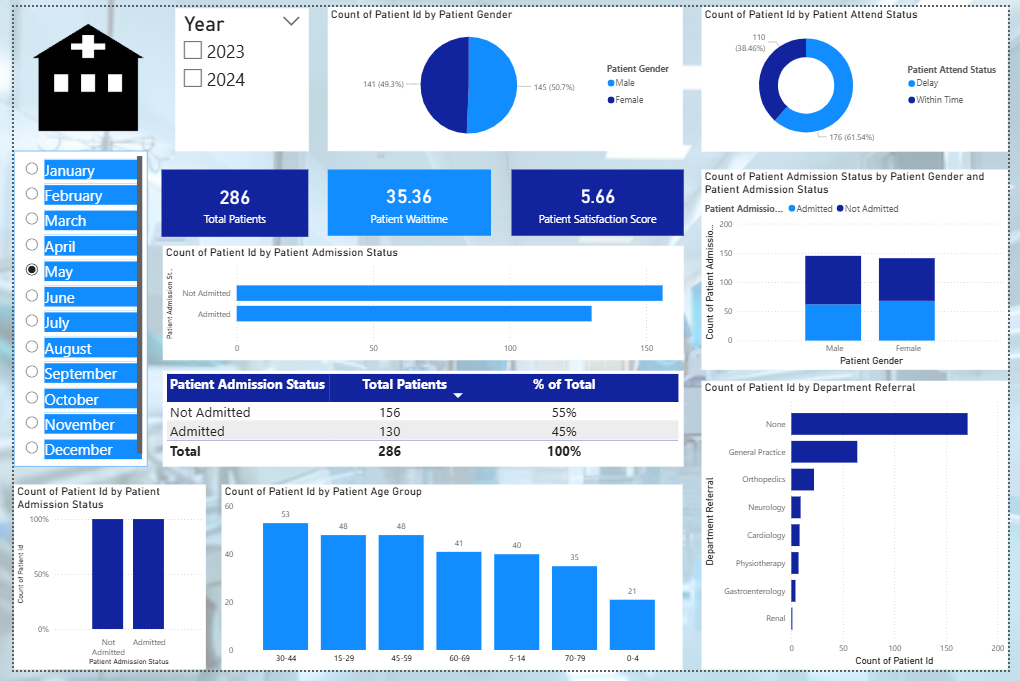

The dashboard page shown, as its layout file describes it:
{"tool":"powerbi","page":{"name":"Dashboard ","canvas":[1500,1000],"ordinal":1},"visuals":[{"type":"card","fields":{"Values":["Count(Hospital_Cases_Analysis.Patient Id.1)"]},"box":[223.3,245,221.7,101.7],"z":0},{"type":"columnChart","fields":{"Y":["CountNonNull(Hospital_Cases_Analysis.Patient Id.1)"],"Category":["Hospital_Cases_Analysis.Patient Age Group"]},"box":[314,720,696,280],"z":1000},{"type":"card","fields":{"Values":["Avg(Hospital_Cases_Analysis.Patient Satisfaction Score)"]},"box":[750,245.7,260,100],"z":2000},{"type":"slicer","fields":{"Values":["Custome_Calender.Dates.Variation.Date Hierarchy.Month"]},"box":[0,216.7,201.7,476.7],"z":3000},{"type":"pieChart","fields":{"Category":["Hospital_Cases_Analysis.Patient Gender"],"Y":["CountNonNull(Hospital_Cases_Analysis.Patient Id)"]},"box":[474.1,0,536.2,217.2],"z":4000},{"type":"donutChart","fields":{"Category":["Hospital_Cases_Analysis.Patient Attend Status"],"Y":["CountNonNull(Hospital_Cases_Analysis.Patient Id)"]},"box":[1038,0,462,218],"z":5000},{"type":"barChart","fields":{"Y":["CountNonNull(Hospital_Cases_Analysis.Patient Id)"],"Category":["Hospital_Cases_Analysis.Department Referral"]},"box":[1038,564,462,436],"z":6000},{"type":"hundredPercentStackedColumnChart","fields":{"Category":["Hospital_Cases_Analysis.Patient Admission Status"],"Y":["CountNonNull(Hospital_Cases_Analysis.Patient Id)"]},"box":[0,720.9,289.6,279.1],"z":7000},{"type":"card","fields":{"Values":["Avg(Hospital_Cases_Analysis.Patient Waittime)"]},"box":[474,246,246,100],"z":8000},{"type":"tableEx","fields":{"Values":["Hospital_Cases_Analysis.Patient Admission Status","Hospital_Cases_Analysis.Total Patients","Hospital_Cases_Analysis.% of Total"]},"box":[224.1,548.3,786.2,144.8],"z":9000},{"type":"columnChart","fields":{"Category":["Hospital_Cases_Analysis.Patient Gender"],"Series":["Hospital_Cases_Analysis.Patient Admission Status"],"Y":["CountNonNull(Hospital_Cases_Analysis.Patient Admission Status)"]},"box":[1038,246,462,302],"z":10000},{"type":"barChart","fields":{"Category":["Hospital_Cases_Analysis.Patient Admission Status"],"Y":["CountNonNull(Hospital_Cases_Analysis.Patient Id)"]},"box":[224.1,360.3,786.2,172.4],"z":11000},{"type":"slicer","fields":{"Values":["Custome_Calender.Dates.Variation.Date Hierarchy.Year"]},"box":[243.8,1.2,201.2,216.2],"z":12000},{"type":"image","box":[0,0,223.3,216.7],"z":13000}]}

Visuals, with their boxes in screenshot pixels (x1, y1, x2, y2), scaled from the page's 1500x1000 canvas onto the 1020x681 screenshot:
card - Count(Hospital_Cases_Analysis.Patient Id.1): bbox=(152, 167, 303, 236)
columnChart - CountNonNull(Hospital_Cases_Analysis.Patient Id.1) x Hospital_Cases_Analysis.Patient Age Group: bbox=(214, 490, 687, 680)
card - Avg(Hospital_Cases_Analysis.Patient Satisfaction Score): bbox=(510, 167, 687, 235)
slicer - Custome_Calender.Dates.Variation.Date Hierarchy.Month: bbox=(0, 148, 137, 472)
pieChart - Hospital_Cases_Analysis.Patient Gender x CountNonNull(Hospital_Cases_Analysis.Patient Id): bbox=(322, 0, 687, 148)
donutChart - Hospital_Cases_Analysis.Patient Attend Status x CountNonNull(Hospital_Cases_Analysis.Patient Id): bbox=(706, 0, 1019, 148)
barChart - CountNonNull(Hospital_Cases_Analysis.Patient Id) x Hospital_Cases_Analysis.Department Referral: bbox=(706, 384, 1019, 680)
hundredPercentStackedColumnChart - Hospital_Cases_Analysis.Patient Admission Status x CountNonNull(Hospital_Cases_Analysis.Patient Id): bbox=(0, 491, 197, 680)
card - Avg(Hospital_Cases_Analysis.Patient Waittime): bbox=(322, 168, 490, 236)
tableEx - Hospital_Cases_Analysis.Patient Admission Status x Hospital_Cases_Analysis.Total Patients: bbox=(152, 373, 687, 472)
columnChart - Hospital_Cases_Analysis.Patient Gender x Hospital_Cases_Analysis.Patient Admission Status: bbox=(706, 168, 1019, 373)
barChart - Hospital_Cases_Analysis.Patient Admission Status x CountNonNull(Hospital_Cases_Analysis.Patient Id): bbox=(152, 245, 687, 363)
slicer - Custome_Calender.Dates.Variation.Date Hierarchy.Year: bbox=(166, 1, 303, 148)
image: bbox=(0, 0, 152, 148)
